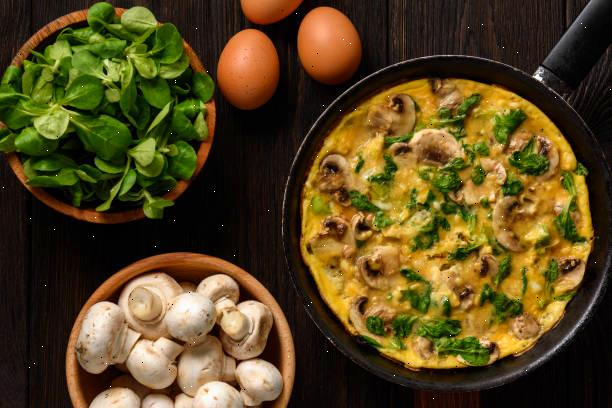eggs: (203, 0, 370, 113)
omelette: (303, 80, 583, 366)
salad: (3, 5, 211, 223)
